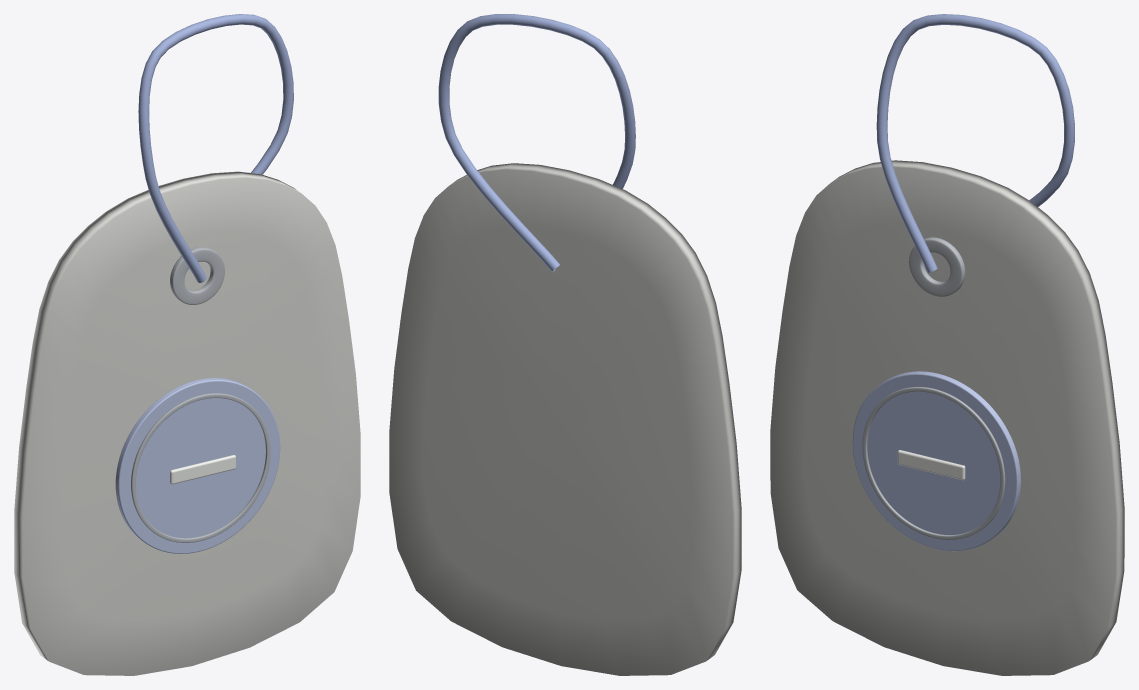
The model's file is price-tag.glb.
The picture shows the model from 3 angles, left to right: view 1: azimuth 30°, elevation 25°; view 2: azimuth 150°, elevation 25°; view 3: azimuth 330°, elevation 25°; orthographic projection. The views are drawn at different scales.
Parts seen in each view (by area): view 1: die-cut-soft-corner-tag, tag-with-attached-cord-004, tag-with-attached-cord-003, machined-annular-ring (×2), tag-with-attached-cord-006; view 2: die-cut-soft-corner-tag, tag-with-attached-cord-003; view 3: die-cut-soft-corner-tag, tag-with-attached-cord-004, tag-with-attached-cord-003, machined-annular-ring (×2), tag-with-attached-cord-006.
Boxes of the visible parts, x1=… form: die-cut-soft-corner-tag: x1=14, y1=171, x2=360, y2=675; tag-with-attached-cord-004: x1=115, y1=378, x2=280, y2=553; tag-with-attached-cord-003: x1=138, y1=14, x2=293, y2=282; machined-annular-ring (×2): x1=131, y1=247, x2=270, y2=542; tag-with-attached-cord-006: x1=170, y1=455, x2=236, y2=484; die-cut-soft-corner-tag: x1=389, y1=163, x2=741, y2=675; tag-with-attached-cord-003: x1=438, y1=14, x2=635, y2=271; die-cut-soft-corner-tag: x1=770, y1=160, x2=1124, y2=675; tag-with-attached-cord-004: x1=852, y1=371, x2=1020, y2=551; tag-with-attached-cord-003: x1=876, y1=14, x2=1074, y2=272; machined-annular-ring (×2): x1=862, y1=237, x2=1005, y2=539; tag-with-attached-cord-006: x1=897, y1=450, x2=965, y2=480.
Size of the model in its own units: 1.12 by 2 by 0.1698.
